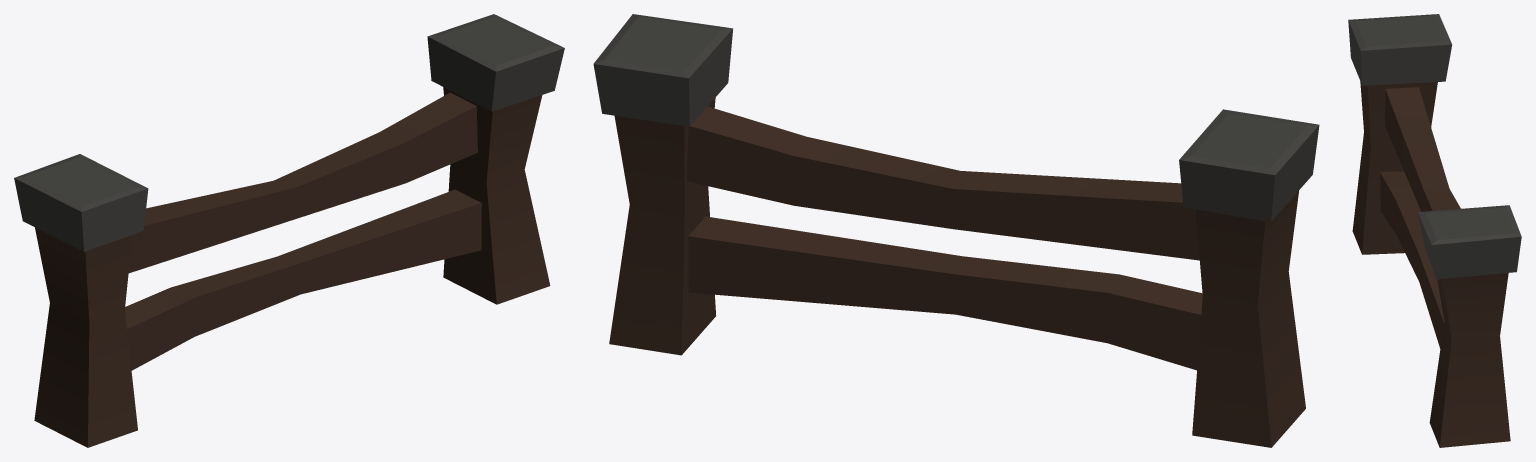
Rendered from Fence_Type1.fbx.
3 renders of one model, left to right at view 1: azimuth 30°, elevation 25°; view 2: azimuth 150°, elevation 25°; view 3: azimuth 270°, elevation 25°, orthographic. The views are drawn at different scales.
Visible parts, largest first — view 1: Fence003; view 2: Fence003; view 3: Fence003.
Part boxes in pixels (bbox=[...]): Fence003: bbox=[14, 14, 564, 447]; Fence003: bbox=[593, 14, 1319, 447]; Fence003: bbox=[1348, 14, 1521, 447].
Size of the model in its own units: 501 by 211 by 159.
